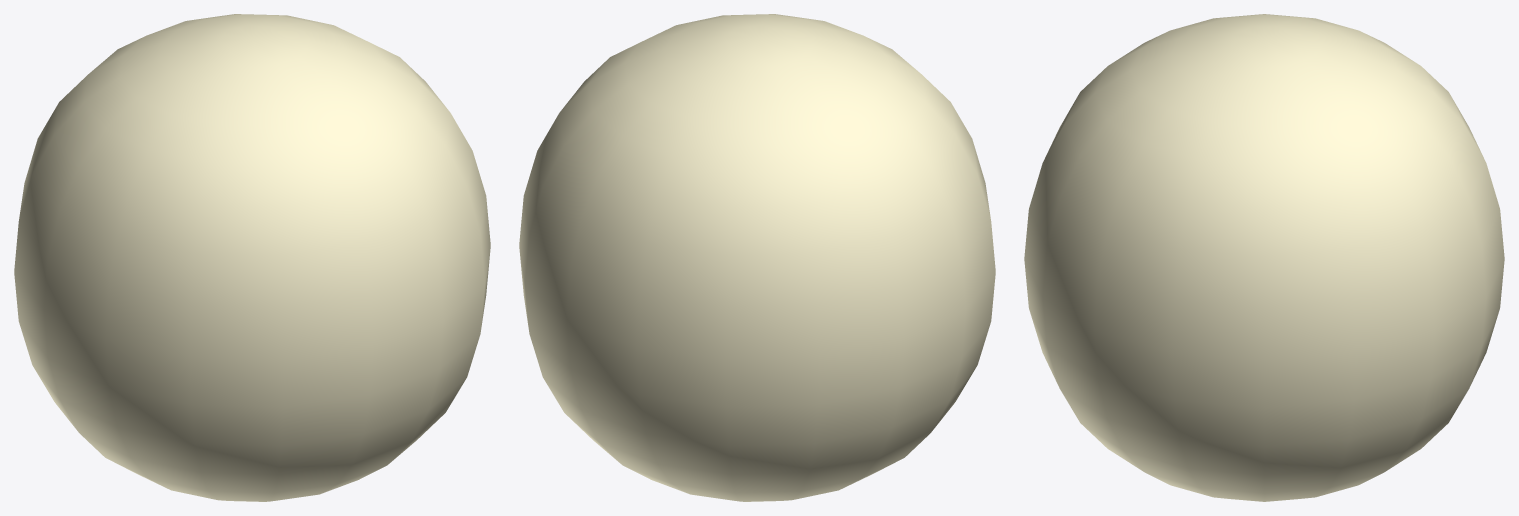
The model's file is Ice Cream White.fbx.
3 views of the same model, side by side, from view 1: azimuth 30°, elevation 25°; view 2: azimuth 150°, elevation 25°; view 3: azimuth 270°, elevation 25° (orthographic).
Parts seen in each view (by area): view 1: Ice Cream White; view 2: Ice Cream White; view 3: Ice Cream White.
Boxes of the visible parts, <box> form: Ice Cream White: <box>14,14,490,501</box>; Ice Cream White: <box>519,14,995,501</box>; Ice Cream White: <box>1024,14,1504,501</box>.
Bounding box in the file's own units: 0.4671 × 0.4738 × 0.4671.
